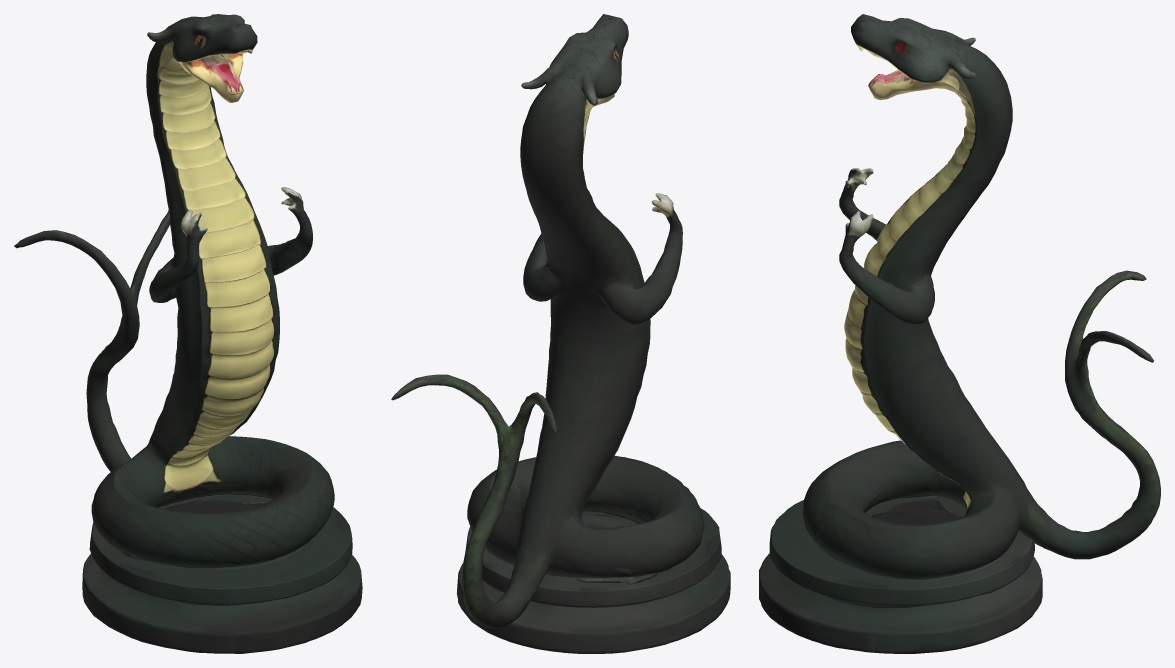
File: award_snake.glb
3 views of the same model, side by side, from view 1: azimuth 30°, elevation 25°; view 2: azimuth 150°, elevation 25°; view 3: azimuth 270°, elevation 25° (orthographic). The views are drawn at different scales.
Bounding box in the file's own units: 0.8258 × 1.9 × 1.2.
1 material, 1 textured.
